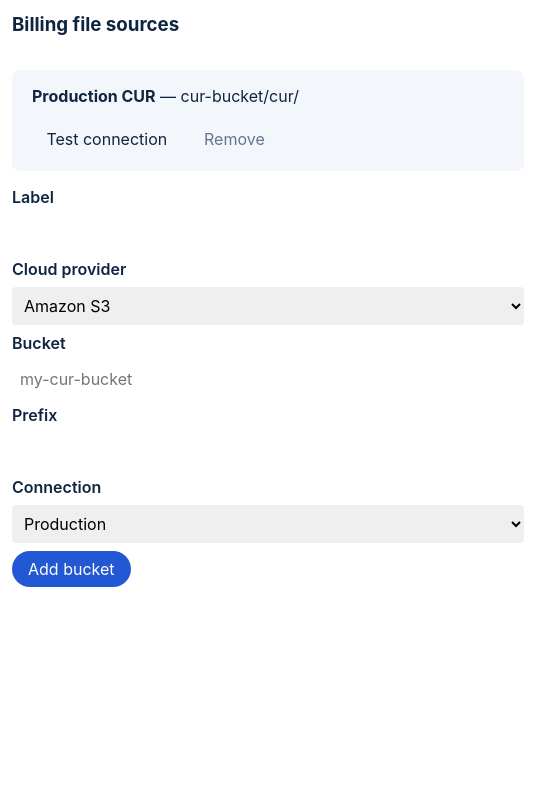
Test: BillingFileSourcesPanel › testing a bucket › leads with "Connected" and shows the header row when columns do not resolve
Step 1. Click the button "Test connection" → (107, 139), box [32,122,182,155]
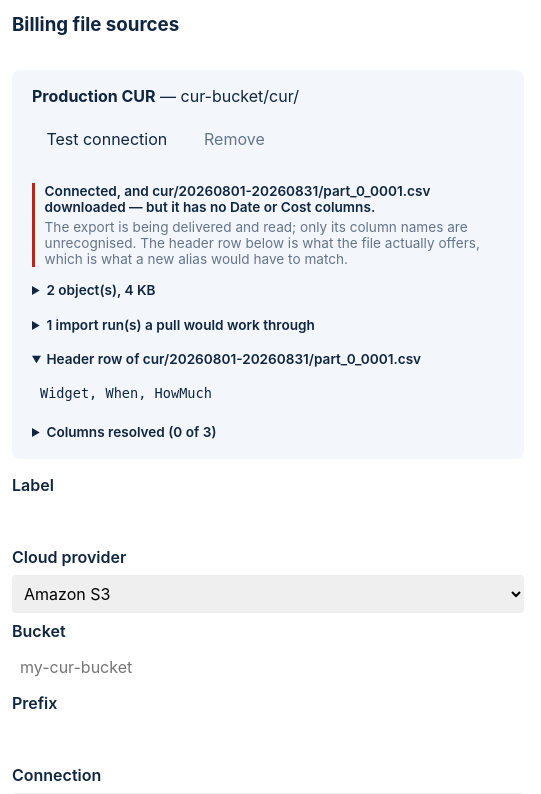
Now the text "Widget, When, HowMuch" is shown, box [32,377,504,409]
